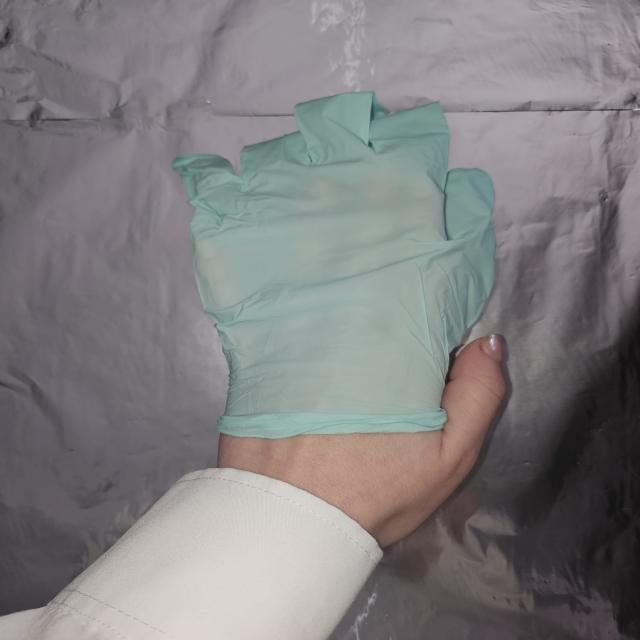glove_partial: (174, 90, 512, 547)
